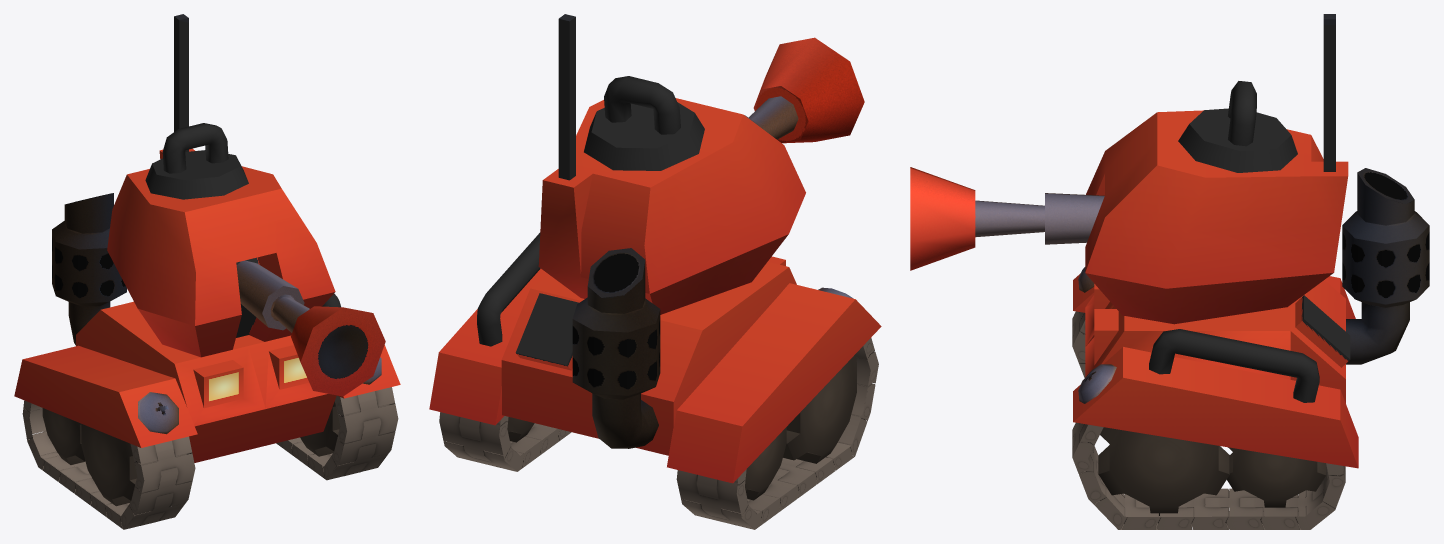
File: Tank_1.fbx
3 views of the same model, side by side, from view 1: azimuth 30°, elevation 25°; view 2: azimuth 150°, elevation 25°; view 3: azimuth 270°, elevation 25° (orthographic). The views are drawn at different scales.
Parts seen in each view (by area): view 1: Body, Head, Trail, barrel, Tailpipe, cap, R_front_wheel, Circle, Antena, R_back_wheel, L_front_wheel; view 2: Body, Head, Tailpipe, Trail, barrel, cap, R_front_wheel, Antena, Circle, Pipe, R_back_wheel; view 3: Head, Body, Tailpipe, Trail, barrel, L_front_wheel, Pipe, cap, L_back_wheel, Antena, Circle.
Part boxes in pixels (x1=…): Body: x1=14, y1=301, x2=400, y2=462; Head: x1=107, y1=148, x2=335, y2=357; Trail: x1=22, y1=387, x2=398, y2=529; barrel: x1=236, y1=260, x2=385, y2=396; Tailpipe: x1=52, y1=193, x2=126, y2=345; cap: x1=145, y1=150, x2=248, y2=199; R_front_wheel: x1=81, y1=424, x2=137, y2=506; Circle: x1=162, y1=123, x2=228, y2=173; Antena: x1=174, y1=14, x2=188, y2=151; R_back_wheel: x1=42, y1=408, x2=85, y2=464; L_front_wheel: x1=300, y1=401, x2=339, y2=456; Body: x1=429, y1=256, x2=881, y2=483; Head: x1=538, y1=98, x2=805, y2=314; Tailpipe: x1=572, y1=248, x2=660, y2=448; Trail: x1=439, y1=338, x2=878, y2=529; barrel: x1=744, y1=37, x2=864, y2=143; cap: x1=584, y1=102, x2=704, y2=170; R_front_wheel: x1=783, y1=354, x2=856, y2=463; Antena: x1=558, y1=14, x2=575, y2=180; Circle: x1=604, y1=76, x2=680, y2=134; Pipe: x1=477, y1=232, x2=540, y2=346; R_back_wheel: x1=745, y1=427, x2=786, y2=500; Head: x1=1085, y1=110, x2=1348, y2=324; Body: x1=1073, y1=267, x2=1358, y2=468; Tailpipe: x1=1342, y1=168, x2=1429, y2=364; Trail: x1=1072, y1=311, x2=1345, y2=529; barrel: x1=910, y1=167, x2=1104, y2=270; L_front_wheel: x1=1098, y1=427, x2=1229, y2=515; Pipe: x1=1149, y1=329, x2=1319, y2=402; cap: x1=1178, y1=108, x2=1297, y2=172; L_back_wheel: x1=1227, y1=447, x2=1326, y2=507; Antena: x1=1323, y1=14, x2=1335, y2=171; Circle: x1=1228, y1=81, x2=1256, y2=146.
Size of the model in its own units: 214 by 320 by 330.
2 materials, 2 textured.
